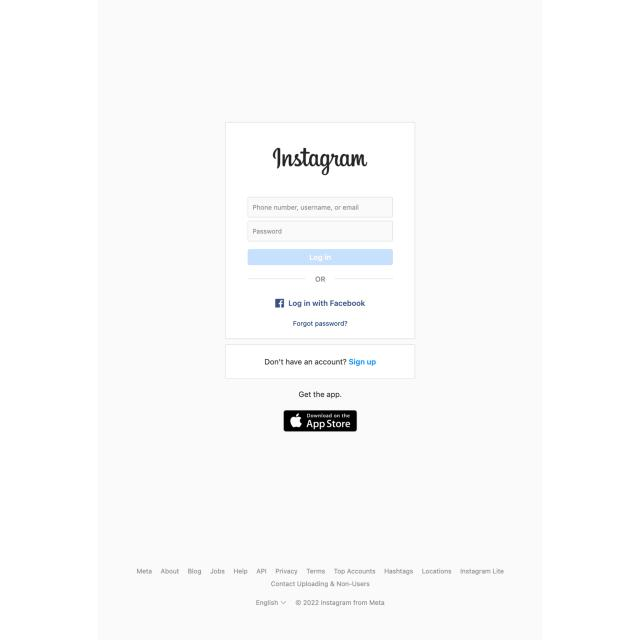footer: (96, 556, 544, 640)
input: (246, 220, 394, 243), (248, 195, 394, 218)
logo: (268, 138, 375, 182)
